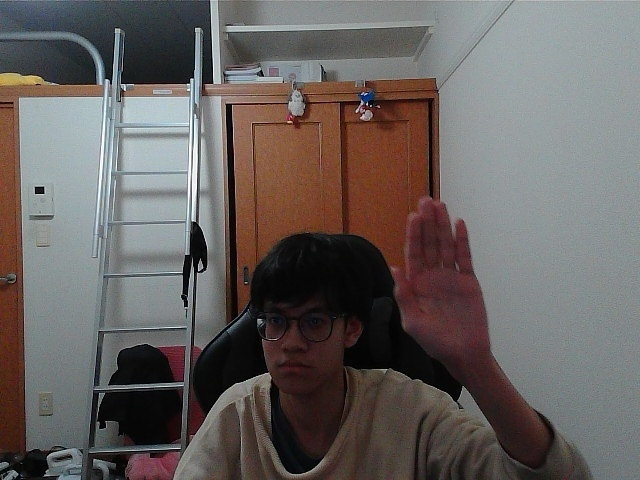open_palm: (399, 205, 468, 345)
